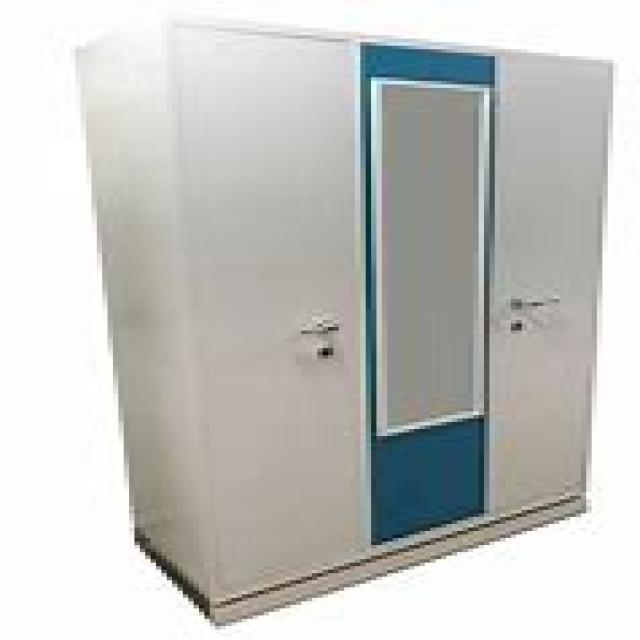dolap: (70, 14, 613, 626)
